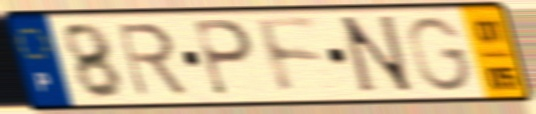8: (62, 20, 125, 102)
F: (252, 15, 329, 99)
G: (404, 14, 476, 94)
N: (335, 12, 420, 98)
P: (191, 17, 258, 100)
R: (112, 20, 192, 100)
